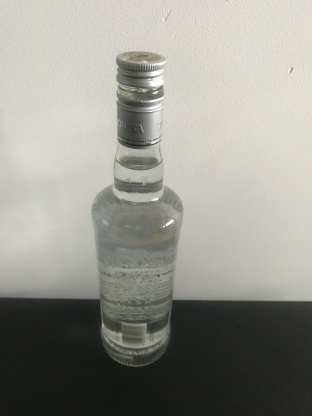nakretka: (114, 50, 166, 149)
